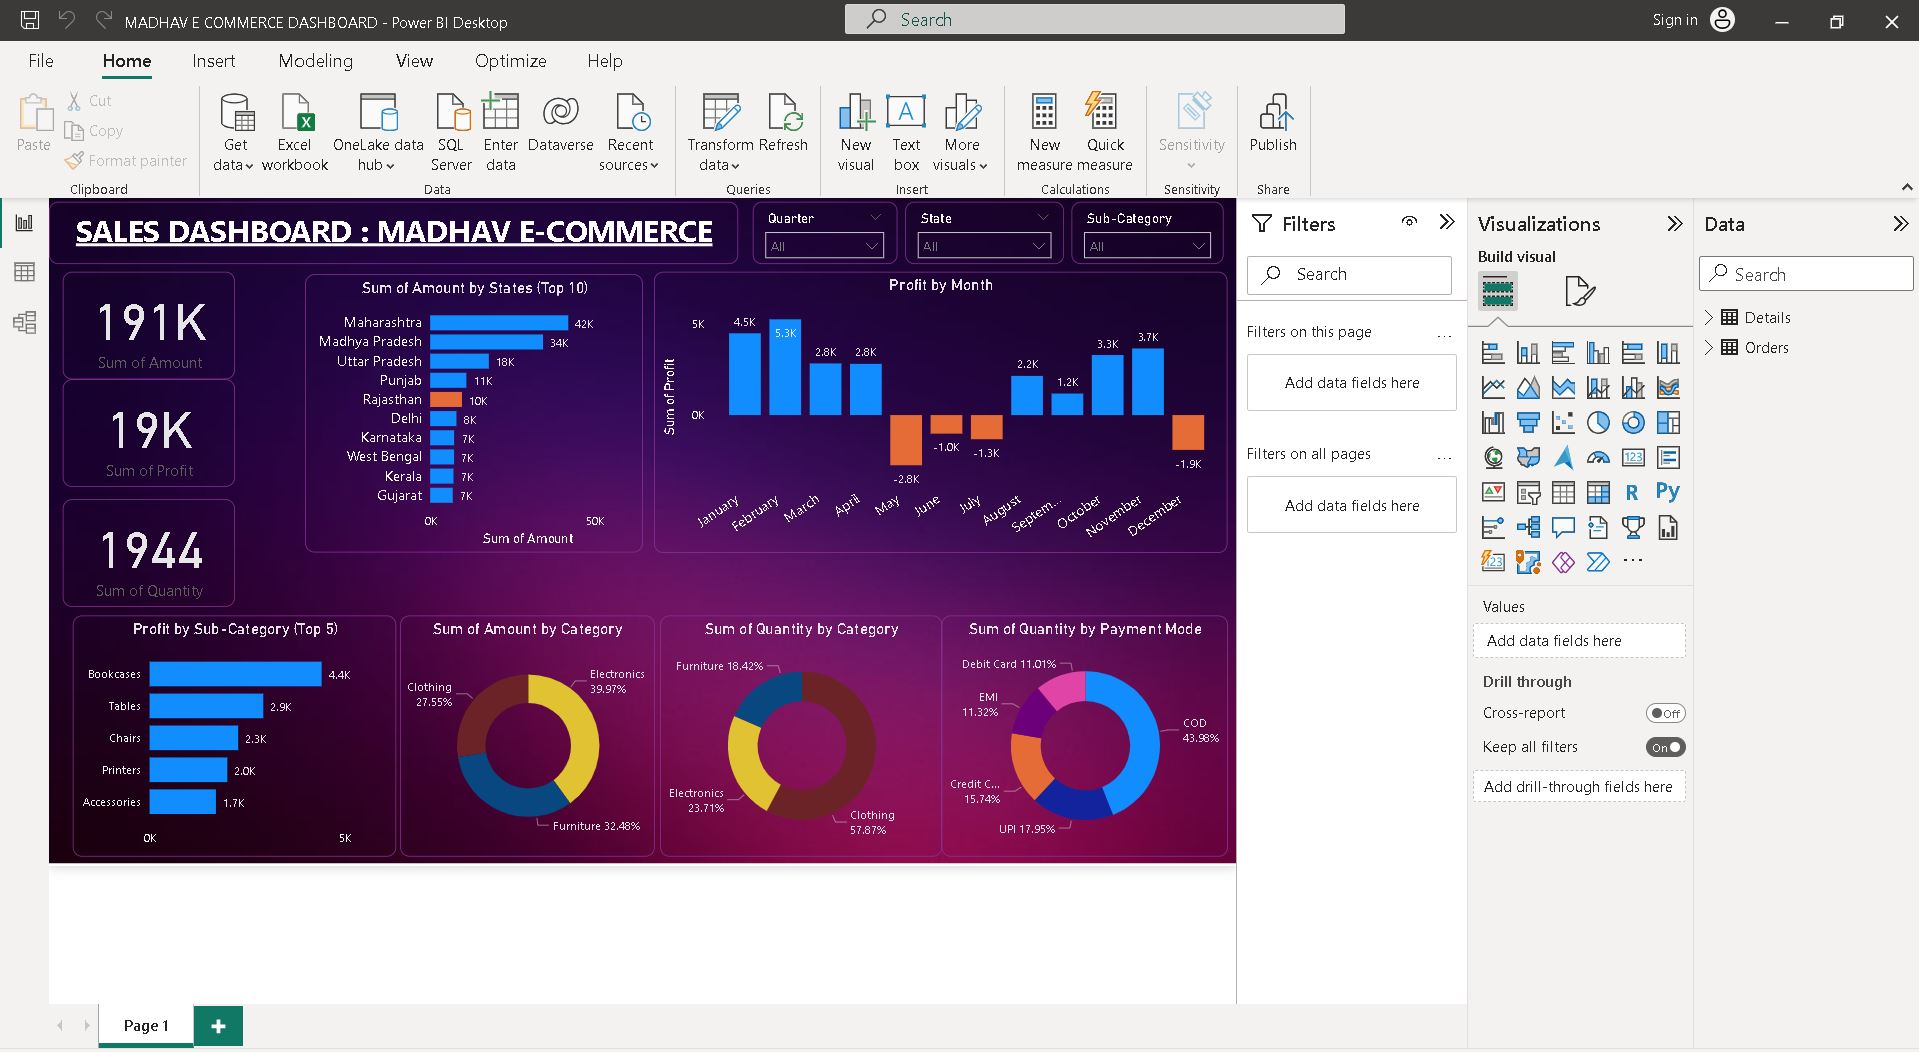

What the dashboard file says about the page in this screenshot:
{"tool":"powerbi","page":{"name":"Page 1","canvas":[1280,720],"ordinal":0},"visuals":[{"type":"columnChart","title":"Profit by Month","fields":{"Y":["Details.Profit"],"Category":["Orders.Order date.Variation.Date Hierarchy.Month"]},"box":[652.9,80,618.6,302.9],"z":0},{"type":"donutChart","fields":{"Y":["Details.Quantity"],"Category":["Details.Category"]},"box":[658.6,450,304.3,260],"z":1000},{"type":"donutChart","title":"Sum of Quantity by Payment Mode","fields":{"Y":["Details.Quantity"],"Category":["Details.PaymentMode"]},"box":[962.9,450,308.6,260],"z":2000},{"type":"donutChart","fields":{"Y":["Details.Amount"],"Category":["Details.Category"]},"box":[378.6,450,274.3,260],"z":3000},{"type":"barChart","title":"Profit by Sub-Category (Top 5)","fields":{"Y":["Details.Profit"],"Category":["Details.Sub-Category"]},"box":[25.7,450,348.6,260],"z":4000},{"type":"barChart","title":"Sum of Amount by States (Top 10)","fields":{"Y":["Details.Amount"],"Category":["Orders.State"]},"box":[275.7,82.9,364.3,300],"z":5000},{"type":"textbox","box":[0,4.3,742.9,67.1],"z":6000},{"type":"card","fields":{"Values":["Details.Amount"]},"box":[14.3,80,185.7,115.7],"z":7000},{"type":"card","fields":{"Values":["Details.Profit"]},"box":[14.3,195.7,185.7,115.7],"z":8000},{"type":"card","fields":{"Values":["Details.Quantity"]},"box":[14.3,324.3,185.7,115.7],"z":9000},{"type":"slicer","fields":{"Values":["Orders.Order date.Variation.Date Hierarchy.Quarter"]},"box":[758.6,4.3,155.7,67.1],"z":10000},{"type":"slicer","fields":{"Values":["Orders.State"]},"box":[922.9,4.3,171.4,67.1],"z":10001},{"type":"slicer","fields":{"Values":["Details.Sub-Category"]},"box":[1102.9,4.3,164.3,67.1],"z":10002}]}

Visuals, with their boxes on the page's 1280x720 design canvas (x1, y1, x2, y2). These are canvas units, not pixel positions in the 1919x1052 screenshot, which may show the page scaled, cropped or inside an application window:
"Profit by Month" columnChart: pyautogui.locateOnScreen(653, 80, 1272, 383)
donutChart - Details.Quantity x Details.Category: pyautogui.locateOnScreen(659, 450, 963, 710)
"Sum of Quantity by Payment Mode" donutChart: pyautogui.locateOnScreen(963, 450, 1272, 710)
donutChart - Details.Amount x Details.Category: pyautogui.locateOnScreen(379, 450, 653, 710)
"Profit by Sub-Category (Top 5)" barChart: pyautogui.locateOnScreen(26, 450, 374, 710)
"Sum of Amount by States (Top 10)" barChart: pyautogui.locateOnScreen(276, 83, 640, 383)
textbox: pyautogui.locateOnScreen(0, 4, 743, 71)
card - Details.Amount: pyautogui.locateOnScreen(14, 80, 200, 196)
card - Details.Profit: pyautogui.locateOnScreen(14, 196, 200, 311)
card - Details.Quantity: pyautogui.locateOnScreen(14, 324, 200, 440)
slicer - Orders.Order date.Variation.Date Hierarchy.Quarter: pyautogui.locateOnScreen(759, 4, 914, 71)
slicer - Orders.State: pyautogui.locateOnScreen(923, 4, 1094, 71)
slicer - Details.Sub-Category: pyautogui.locateOnScreen(1103, 4, 1267, 71)
